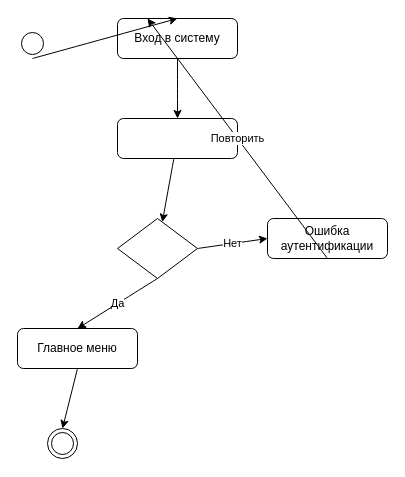
This 405x477 diagram has some shape labels left out. Each missing label, with the box of its shape:
Данные верны?: (116, 218, 198, 278)
Проверить учетные данные: (116, 118, 238, 158)
